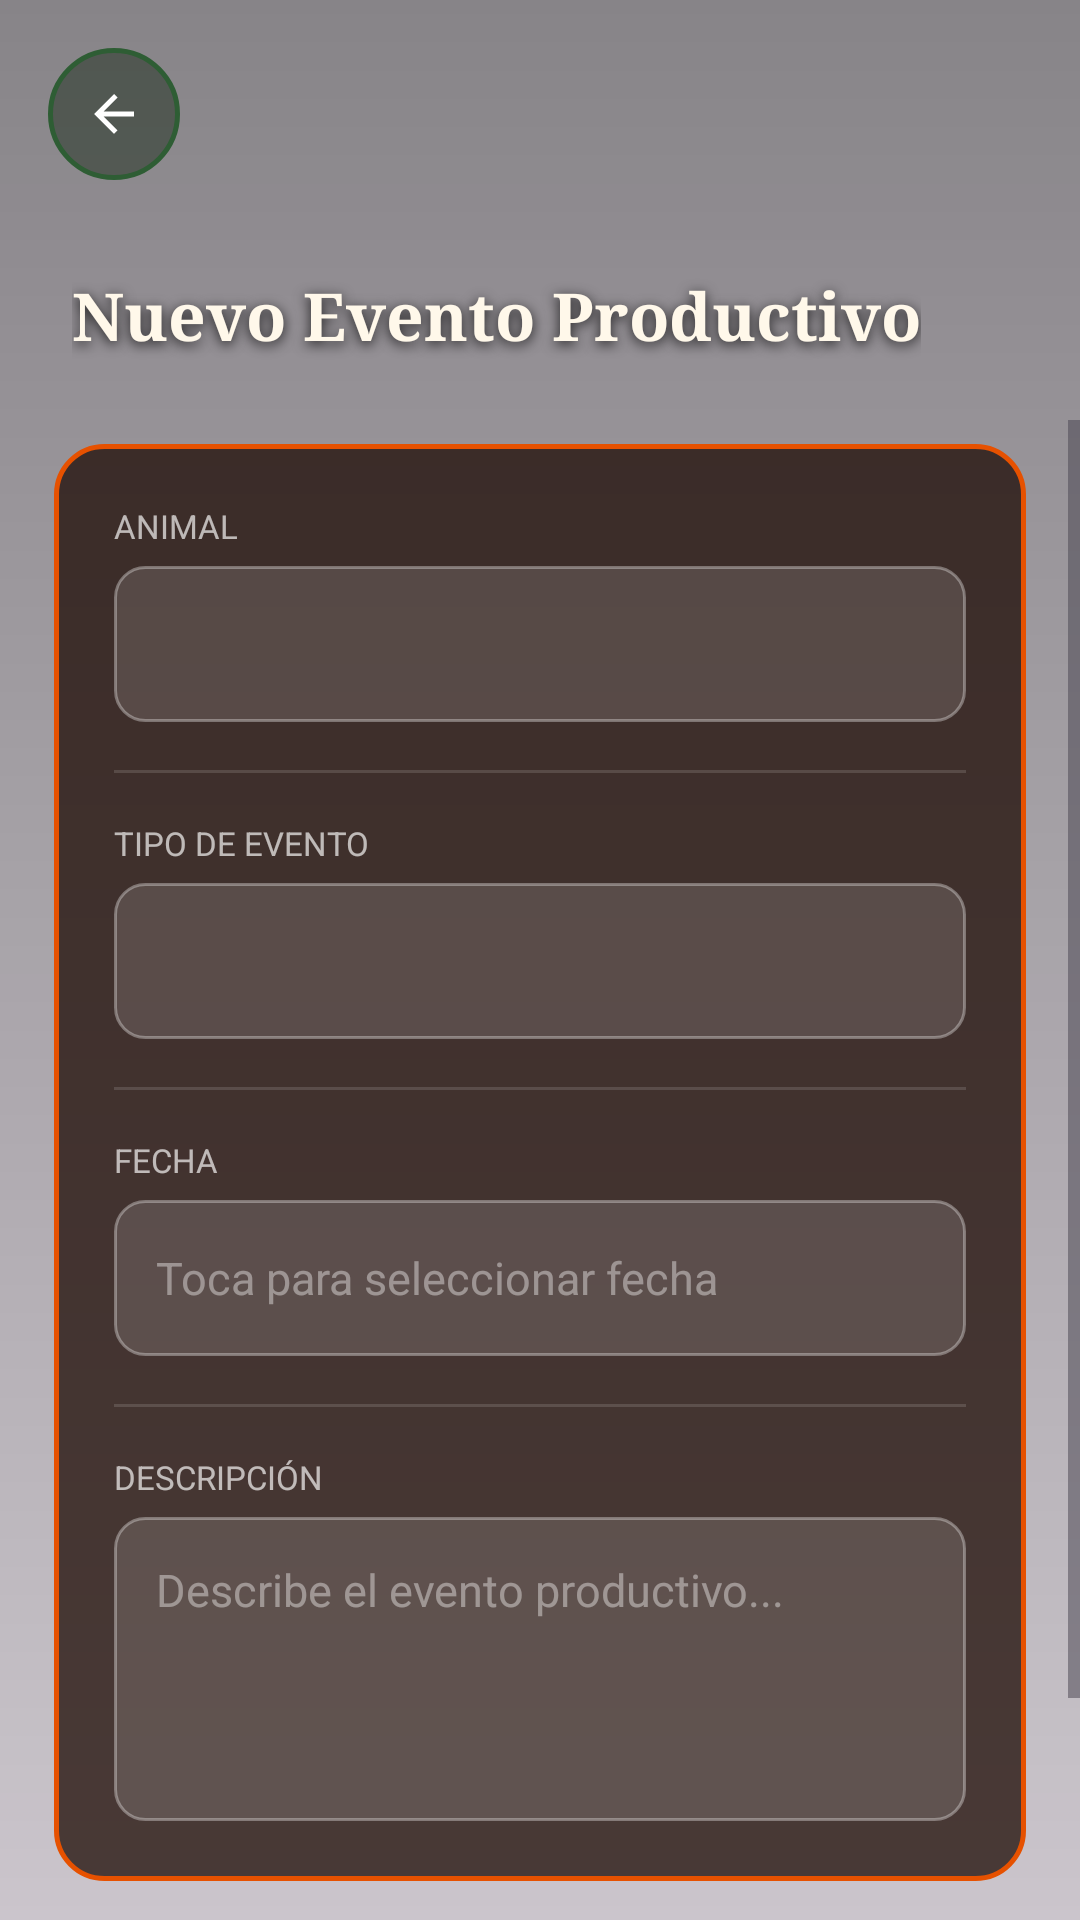

Named icons in this screenshot (1080px×1920px) and their centers, (x=x, y=y):
arrow back: (x=114, y=114)
